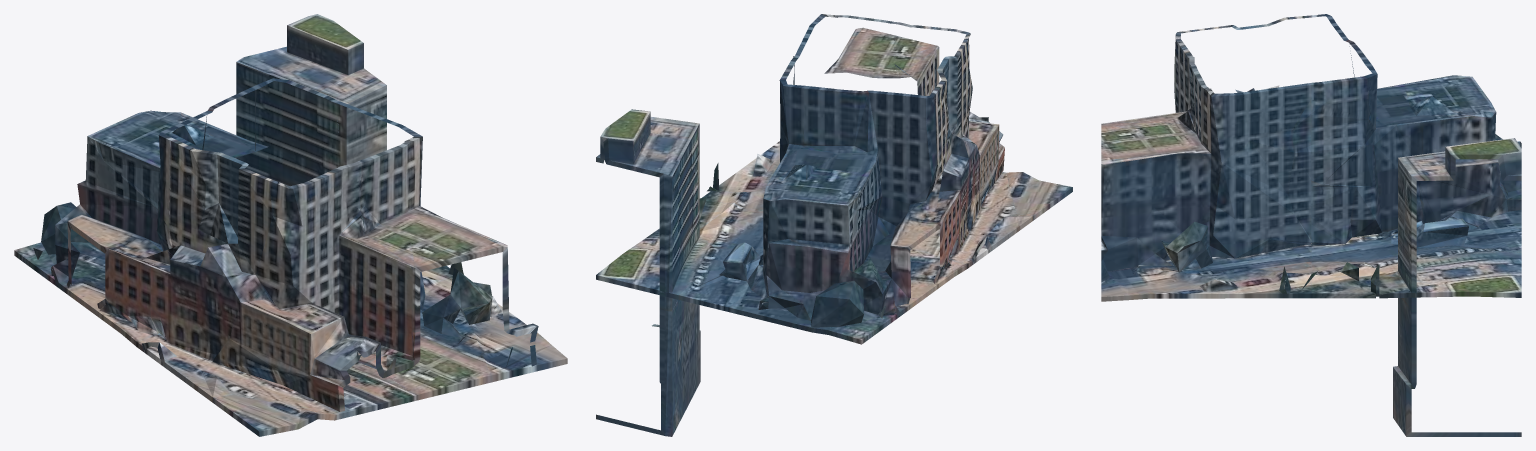
Rendered from chunk_7_3.glb.
3 renders of one model, left to right at view 1: azimuth 30°, elevation 25°; view 2: azimuth 150°, elevation 25°; view 3: azimuth 270°, elevation 25°, orthographic. The views are drawn at different scales.
Visible parts, largest first — view 1: hero-chunk; view 2: hero-chunk; view 3: hero-chunk.
Part boxes in pixels (x1,y1,x2,y2): hero-chunk: [14, 14, 567, 436]; hero-chunk: [596, 14, 1072, 436]; hero-chunk: [1101, 14, 1521, 436].
Bounding box in the file's own units: 55.43 × 61.5 × 76.33.
Materials: 1 (1 with a texture image).
